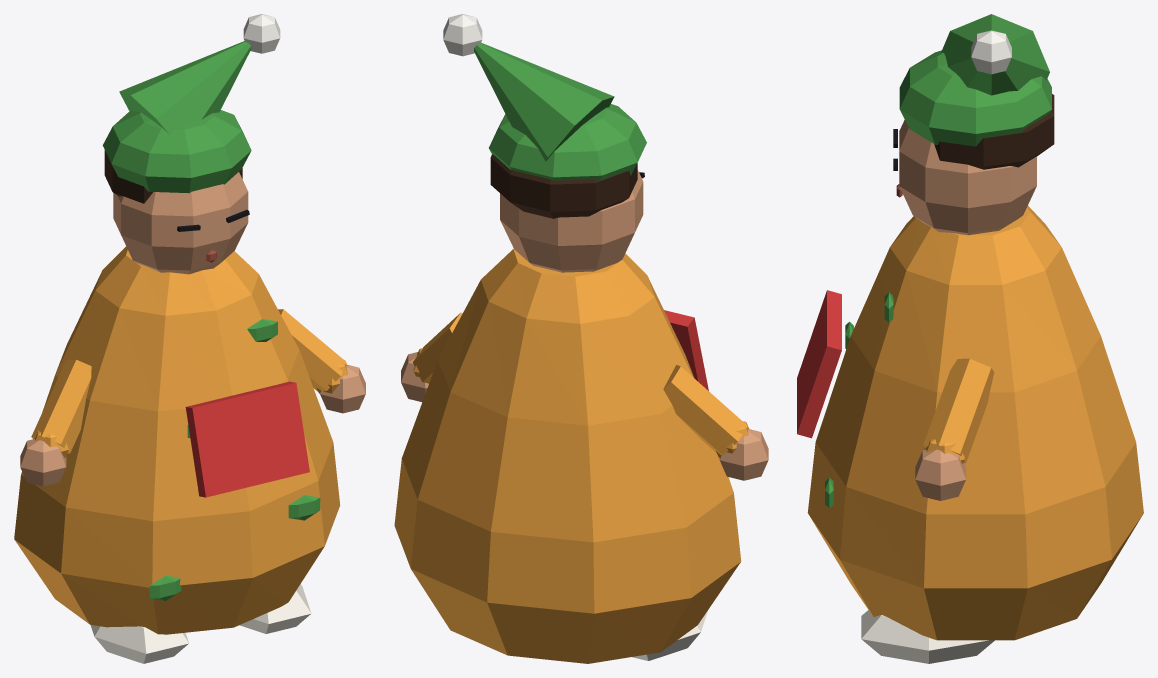
Rendered from npc_tomasito.glb.
The picture shows the model from 3 angles, left to right: view 1: azimuth 30°, elevation 25°; view 2: azimuth 150°, elevation 25°; view 3: azimuth 270°, elevation 25°; orthographic projection. The views are drawn at different scales.
Visible parts, largest first — view 1: body_kid_pajama, head_kid_cap, props_kid_book, head_skin_morena, arms_kid_pajama, legs_kid_socks, arms_skin_morena, body_kid_dino, head_white, head_kid_hair; view 2: body_kid_pajama, head_kid_cap, head_skin_morena, head_kid_hair, arms_kid_pajama, arms_skin_morena, props_kid_book, head_white, legs_kid_socks; view 3: body_kid_pajama, head_kid_cap, head_skin_morena, arms_kid_pajama, props_kid_book, legs_kid_socks, head_kid_hair, arms_skin_morena, head_white, body_kid_dino.
Boxes of the visible parts, <box> form: body_kid_pajama: <box>14,246,340,634</box>; head_kid_cap: <box>102,41,251,193</box>; props_kid_book: <box>185,381,309,497</box>; head_skin_morena: <box>113,172,248,274</box>; arms_kid_pajama: <box>31,309,347,458</box>; legs_kid_socks: <box>90,584,311,663</box>; arms_skin_morena: <box>20,364,365,486</box>; body_kid_dino: <box>149,319,320,601</box>; head_white: <box>243,14,280,53</box>; head_kid_hair: <box>104,150,242,203</box>; body_kid_pajama: <box>394,248,741,663</box>; head_kid_cap: <box>474,42,646,180</box>; head_skin_morena: <box>500,170,643,272</box>; head_kid_hair: <box>490,154,637,218</box>; arms_kid_pajama: <box>412,312,749,457</box>; arms_skin_morena: <box>401,352,768,480</box>; props_kid_book: <box>664,310,708,390</box>; head_white: <box>443,14,482,56</box>; legs_kid_socks: <box>632,610,708,660</box>; body_kid_pajama: <box>807,206,1143,640</box>; head_kid_cap: <box>899,14,1051,146</box>; head_skin_morena: <box>899,120,1036,235</box>; arms_kid_pajama: <box>923,358,994,463</box>; props_kid_book: <box>797,290,841,438</box>; legs_kid_socks: <box>861,610,994,663</box>; head_kid_hair: <box>934,94,1054,169</box>; arms_skin_morena: <box>915,449,965,500</box>; head_white: <box>971,30,1011,74</box>; body_kid_dino: <box>825,292,893,508</box>.
Bounding box in the file's own units: 1.13 × 1.81 × 0.8875.
